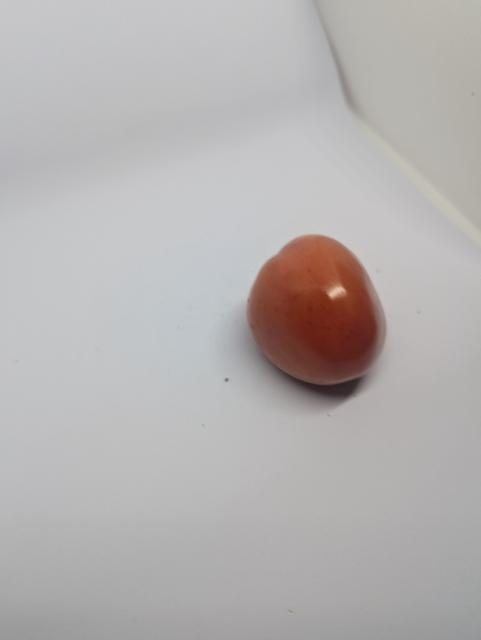red: (246, 229, 394, 394)
